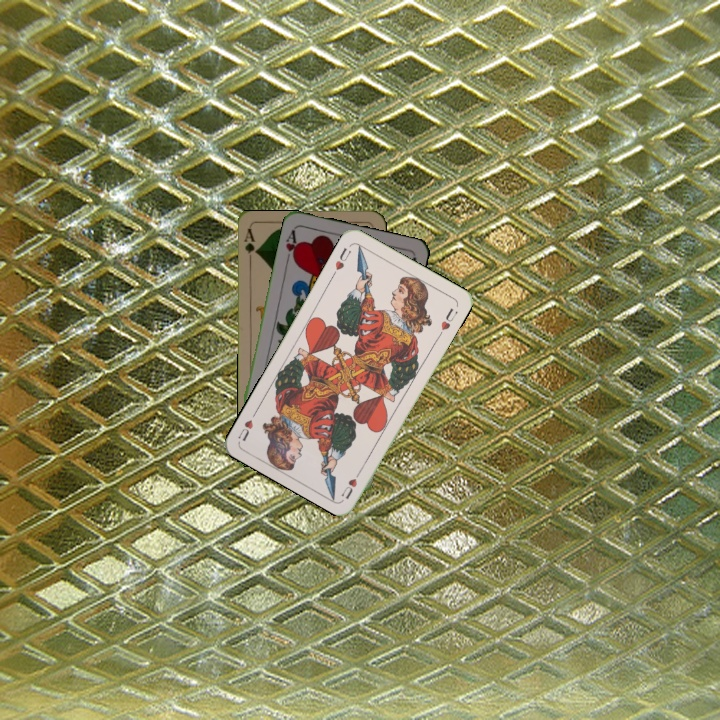GA: (241, 225, 260, 266)
HA: (282, 225, 302, 265)
HU: (337, 465, 365, 501), (328, 243, 354, 279)
